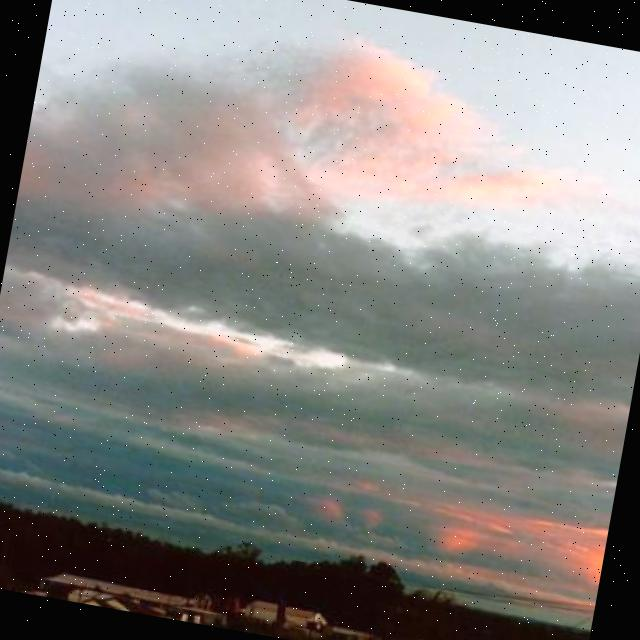Sc: (1, 4, 640, 547)
